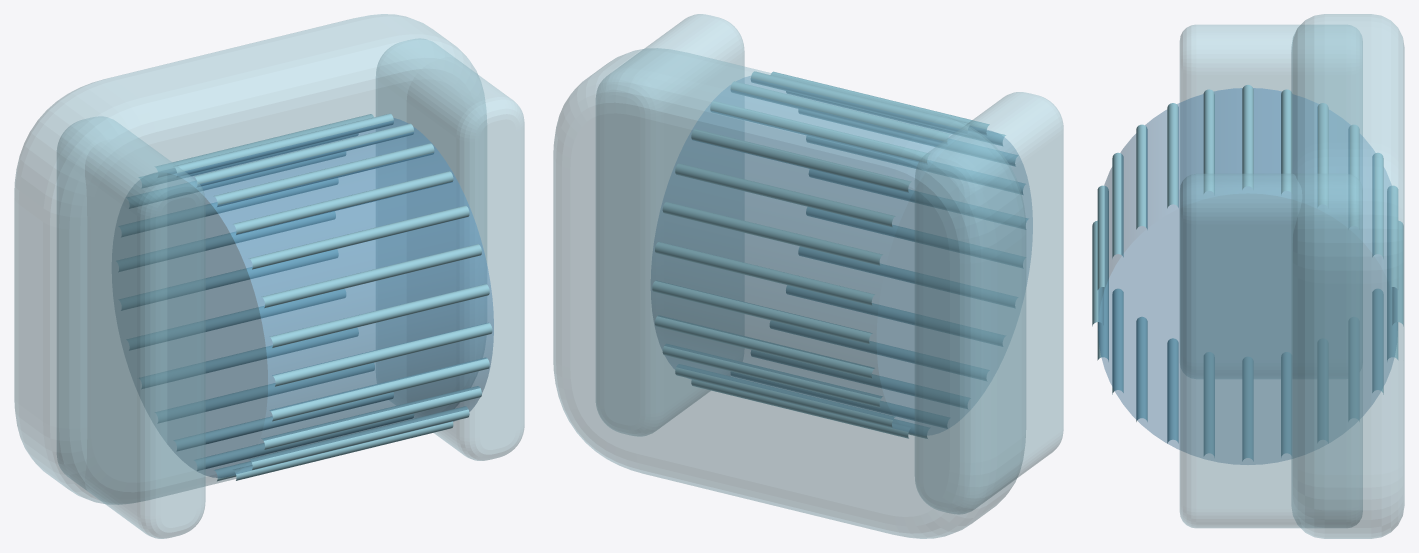
3 renders of one model, left to right at view 1: azimuth 30°, elevation 25°; view 2: azimuth 150°, elevation 25°; view 3: azimuth 270°, elevation 25°, orthographic. The views are drawn at different scales.
Parts seen in each view (by area): view 1: wheel-bed, scroll-wheel, wheel-support--0.53, wheel-support-0.53, wheel-ridge-2, wheel-ridge-1, wheel-ridge-21, wheel-ridge-5, wheel-ridge-0, wheel-ridge-23, wheel-ridge-4, wheel-ridge-3 (+15 smaller); view 2: wheel-bed, scroll-wheel, wheel-support--0.53, wheel-support-0.53, wheel-ridge-10, wheel-ridge-11, wheel-ridge-9, wheel-ridge-8, wheel-ridge-12, wheel-ridge-14, wheel-ridge-15, wheel-ridge-13 (+15 smaller); view 3: scroll-wheel, wheel-support-0.53, wheel-bed, wheel-support--0.53, wheel-ridge-3, wheel-ridge-1, wheel-ridge-2, wheel-ridge-4, wheel-ridge-6, wheel-ridge-5, wheel-ridge-22, wheel-ridge-20 (+16 smaller).
Boxes of the visible parts, x1,y1,x2,y2 form: wheel-bed: (14, 14, 486, 504); scroll-wheel: (167, 118, 493, 477); wheel-support--0.53: (57, 116, 205, 538); wheel-support-0.53: (376, 38, 524, 460); wheel-ridge-2: (262, 244, 481, 308); wheel-ridge-1: (269, 284, 489, 347); wheel-ridge-21: (249, 406, 469, 470); wheel-ridge-5: (214, 143, 434, 206); wheel-ridge-0: (272, 322, 492, 386); wheel-ridge-23: (269, 357, 489, 421); wheel-ridge-4: (233, 171, 453, 234); wheel-ridge-3: (249, 205, 469, 269); wheel-bed: (553, 48, 1025, 538); scroll-wheel: (651, 76, 1032, 433); wheel-support--0.53: (915, 92, 1063, 514); wheel-support-0.53: (596, 14, 744, 436); wheel-ridge-10: (662, 202, 882, 265); wheel-ridge-11: (655, 242, 874, 305); wheel-ridge-9: (675, 163, 895, 227); wheel-ridge-8: (691, 129, 911, 192); wheel-ridge-12: (652, 281, 871, 344); wheel-ridge-14: (662, 344, 882, 407); wheel-ridge-15: (675, 364, 894, 427); wheel-ridge-13: (655, 315, 874, 378); scroll-wheel: (1098, 88, 1397, 464); wheel-support-0.53: (1180, 174, 1362, 527); wheel-bed: (1291, 14, 1404, 538); wheel-support--0.53: (1180, 25, 1362, 187); wheel-ridge-3: (1136, 124, 1147, 229); wheel-ridge-1: (1097, 185, 1108, 291); wheel-ridge-2: (1112, 152, 1123, 258); wheel-ridge-4: (1167, 103, 1178, 208); wheel-ridge-6: (1242, 85, 1253, 189); wheel-ridge-5: (1203, 89, 1214, 194); wheel-ridge-22: (1112, 288, 1123, 394); wheel-ridge-20: (1167, 338, 1178, 443).
Size of the model in its own units: 1.46 by 1.27 by 0.937.
